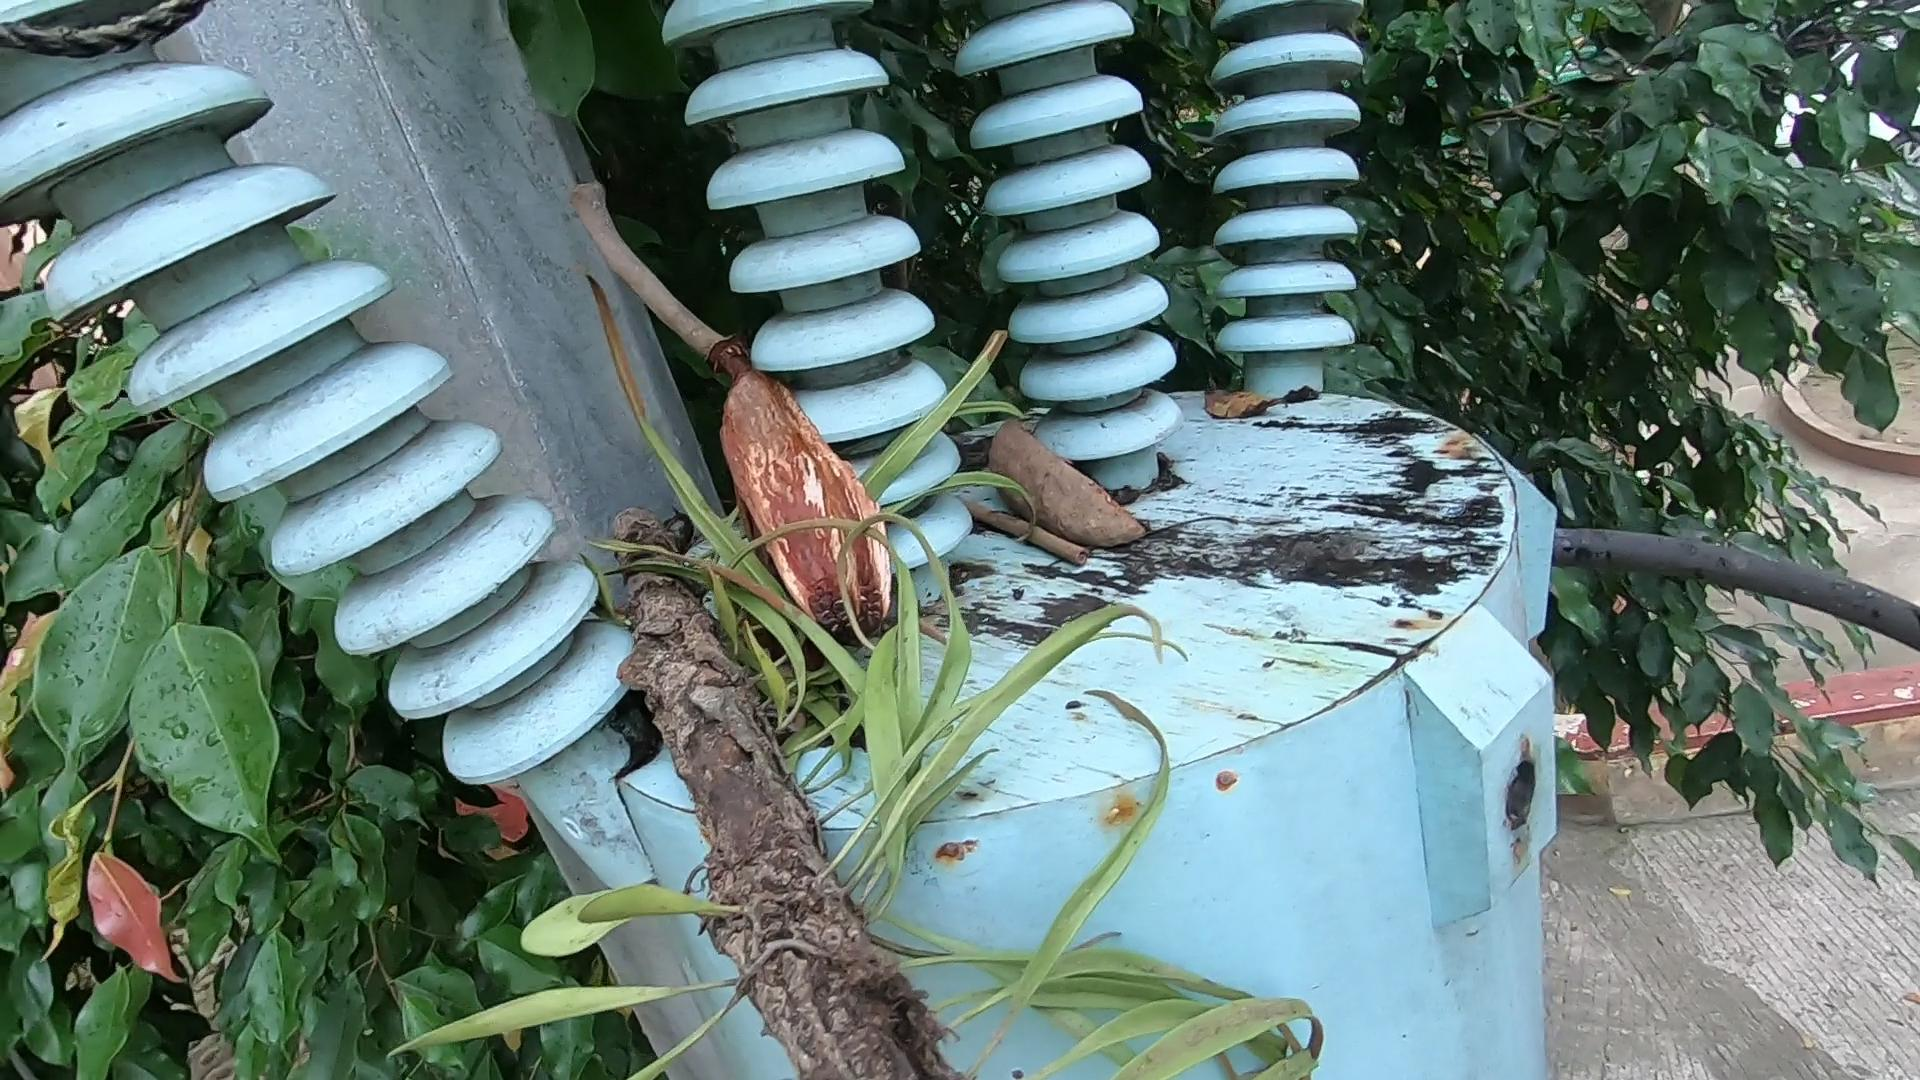branch with leaves: (599, 492, 1336, 1080)
leaf: (1203, 384, 1354, 448)
mahogany fruit: (703, 376, 968, 657), (949, 401, 1151, 556)
tree branch: (566, 173, 800, 419), (960, 484, 1110, 563)
